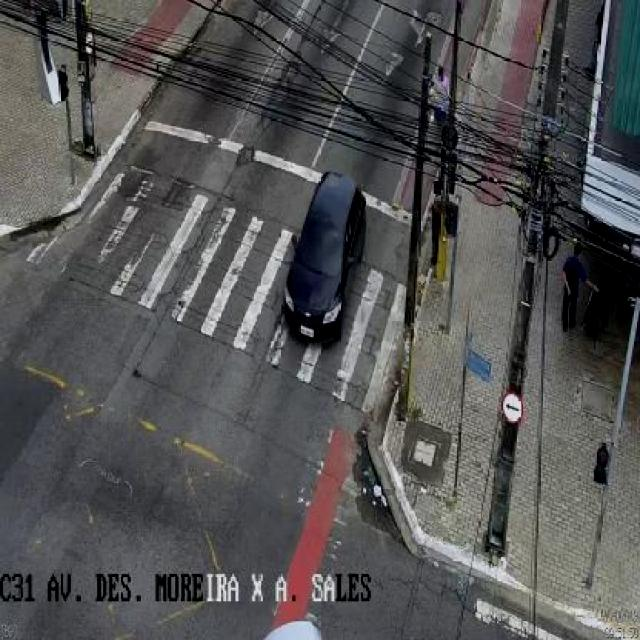Car: (262, 166, 390, 352)
